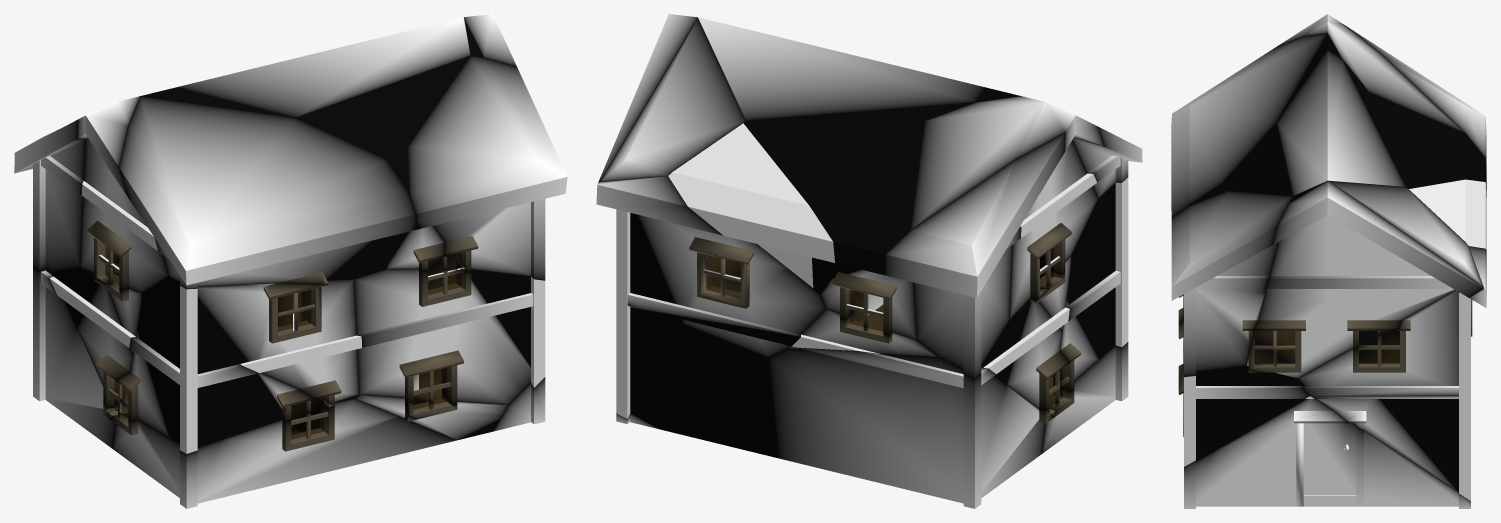
Rendered from Village_Apartment_Small_5_D.fbx.
3 views of the same model, side by side, from view 1: azimuth 30°, elevation 25°; view 2: azimuth 150°, elevation 25°; view 3: azimuth 270°, elevation 25° (orthographic). The views are drawn at different scales.
Parts seen in each view (by area): view 1: Village_Apartment_Small_5_fracturepart4_3, Village_Apartment_Small_5_fracturepart11, Village_Apartment_Small_5_fracturepart15_4, Village_Apartment_Small_5_fracturepart16, Village_Apartment_Small_5_fracturepart18, Village_Apartment_Small_5_fracturepart1_2, Village_Apartment_Small_5_fracturepart20_2, Village_Apartment_Small_5_fracturepart9_4, Village_Apartment_Small_5_fracturepart19, Village_Apartment_Small_5_fracturepart5, Village_Apartment_Small_5_fracturepart7, Village_Apartment_Small_5_fracturepart13_5 (+27 smaller); view 2: Village_Apartment_Small_5_fracturepart19, Village_Apartment_Small_5_fracturepart9_4, Village_Apartment_Small_5_fracturepart5, Village_Apartment_Small_5_fracturepart18, Village_Apartment_Small_5_fracturepart2, Village_Apartment_Small_5_fracturepart6_2, Village_Apartment_Small_5_fracturepart14, Village_Apartment_Small_5_fracturepart17, Village_Apartment_Small_5_fracturepart3, Village_Apartment_Small_5_fracturepart13_5, Village_Apartment_Small_5_fracturepart20_2, Village_Apartment_Small_5_fracturepart16 (+20 smaller); view 3: Village_Apartment_Small_5_fracturepart17, Village_Apartment_Small_5_fracturepart11, Village_Apartment_Small_5_fracturepart8_3, Village_Apartment_Small_5_fracturepart4_3, Village_Apartment_Small_5_fracturepart18, Village_Apartment_Small_5_fracturepart2, Village_Apartment_Small_5_fracturepart15_4, Village_Apartment_Small_5_fracturepart6_2, Village_Apartment_Small_5_fracturepart9_4, Village_Apartment_Small_5_fracturepart14, Village_Apartment_Small_5_fracturepart8, Village_Apartment_Small_5_fracturepart3 (+19 smaller).
Boxes of the visible parts, x1=… form: Village_Apartment_Small_5_fracturepart4_3: x1=119, y1=87, x2=416, y2=286; Village_Apartment_Small_5_fracturepart11: x1=407, y1=56, x2=567, y2=276; Village_Apartment_Small_5_fracturepart15_4: x1=278, y1=254, x2=530, y2=405; Village_Apartment_Small_5_fracturepart16: x1=113, y1=398, x2=456, y2=503; Village_Apartment_Small_5_fracturepart18: x1=177, y1=17, x2=470, y2=117; Village_Apartment_Small_5_fracturepart1_2: x1=141, y1=276, x2=359, y2=402; Village_Apartment_Small_5_fracturepart20_2: x1=130, y1=303, x2=297, y2=447; Village_Apartment_Small_5_fracturepart9_4: x1=77, y1=96, x2=168, y2=293; Village_Apartment_Small_5_fracturepart19: x1=45, y1=262, x2=128, y2=448; Village_Apartment_Small_5_fracturepart5: x1=14, y1=119, x2=85, y2=271; Village_Apartment_Small_5_fracturepart7: x1=296, y1=81, x2=445, y2=159; Village_Apartment_Small_5_fracturepart13_5: x1=51, y1=253, x2=141, y2=406; Village_Apartment_Small_5_fracturepart19: x1=768, y1=348, x2=1045, y2=503; Village_Apartment_Small_5_fracturepart9_4: x1=820, y1=96, x2=1104, y2=340; Village_Apartment_Small_5_fracturepart5: x1=885, y1=132, x2=1065, y2=369; Village_Apartment_Small_5_fracturepart18: x1=698, y1=17, x2=984, y2=120; Village_Apartment_Small_5_fracturepart2: x1=596, y1=176, x2=826, y2=357; Village_Apartment_Small_5_fracturepart6_2: x1=630, y1=307, x2=778, y2=458; Village_Apartment_Small_5_fracturepart14: x1=743, y1=120, x2=924, y2=294; Village_Apartment_Small_5_fracturepart17: x1=598, y1=14, x2=745, y2=182; Village_Apartment_Small_5_fracturepart3: x1=668, y1=123, x2=834, y2=287; Village_Apartment_Small_5_fracturepart13_5: x1=787, y1=256, x2=1071, y2=408; Village_Apartment_Small_5_fracturepart20_2: x1=1040, y1=236, x2=1115, y2=387; Village_Apartment_Small_5_fracturepart16: x1=1042, y1=346, x2=1115, y2=453; Village_Apartment_Small_5_fracturepart17: x1=1246, y1=180, x2=1483, y2=378; Village_Apartment_Small_5_fracturepart11: x1=1171, y1=190, x2=1292, y2=371; Village_Apartment_Small_5_fracturepart8_3: x1=1196, y1=399, x2=1458, y2=506; Village_Apartment_Small_5_fracturepart4_3: x1=1171, y1=33, x2=1341, y2=217; Village_Apartment_Small_5_fracturepart18: x1=1276, y1=50, x2=1405, y2=195; Village_Apartment_Small_5_fracturepart2: x1=1298, y1=246, x2=1486, y2=385; Village_Apartment_Small_5_fracturepart15_4: x1=1196, y1=331, x2=1385, y2=461; Village_Apartment_Small_5_fracturepart6_2: x1=1316, y1=399, x2=1458, y2=491; Village_Apartment_Small_5_fracturepart9_4: x1=1277, y1=14, x2=1486, y2=192; Village_Apartment_Small_5_fracturepart14: x1=1369, y1=92, x2=1486, y2=197; Village_Apartment_Small_5_fracturepart8: x1=1303, y1=423, x2=1356, y2=495; Village_Apartment_Small_5_fracturepart3: x1=1409, y1=179, x2=1486, y2=249.
Bounding box in the file's own units: 1215 × 997 × 873.
